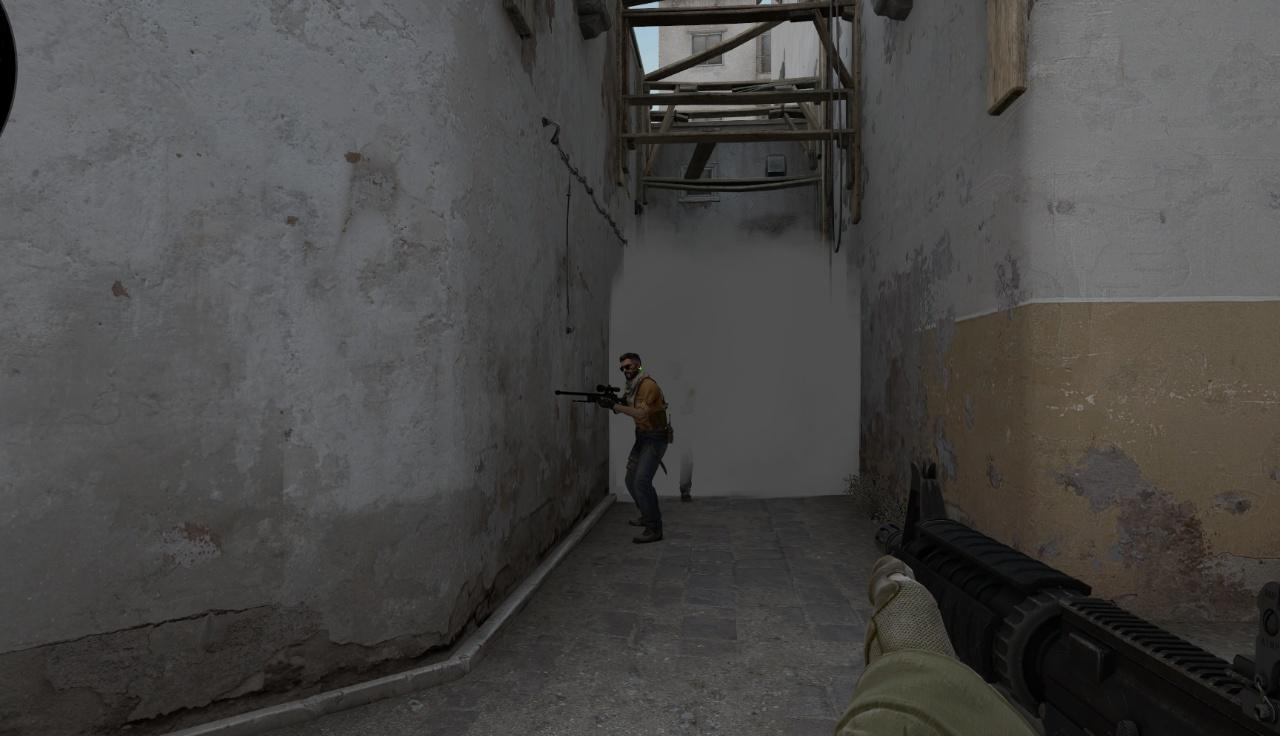rifle: (835, 461, 1280, 736)
tt: (618, 353, 671, 543), (665, 362, 697, 500)
tthead: (620, 353, 641, 380)
